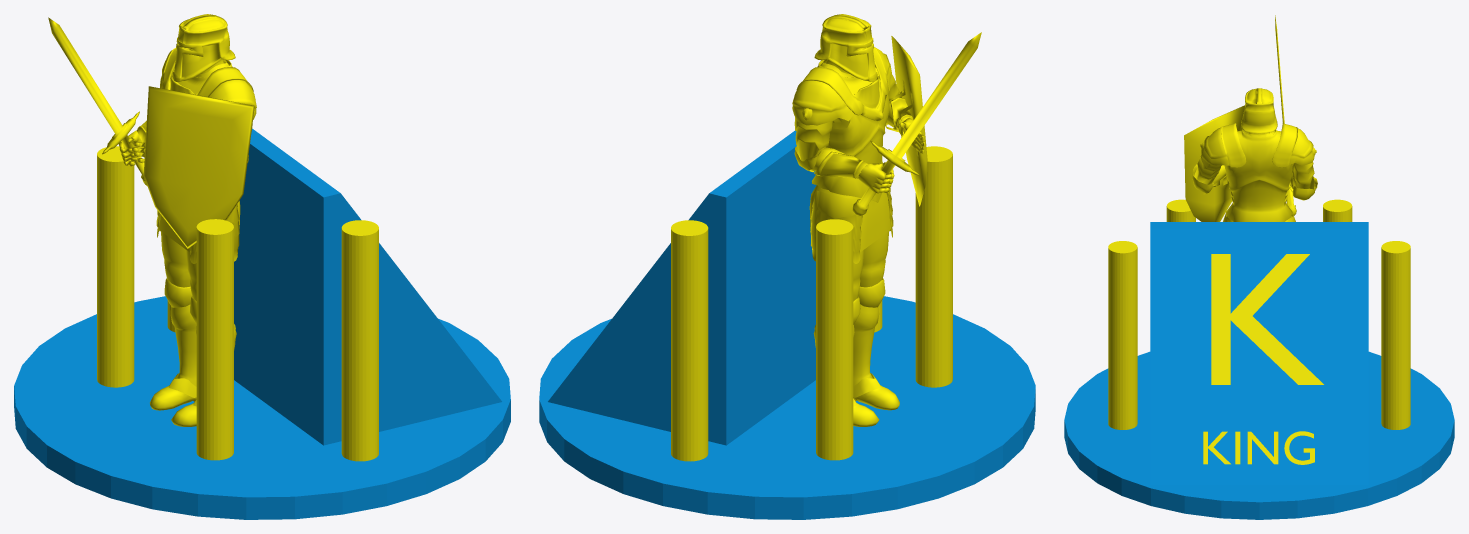
The model's file is TCKing.fbx.
The picture shows the model from 3 angles, left to right: view 1: azimuth 30°, elevation 25°; view 2: azimuth 150°, elevation 25°; view 3: azimuth 270°, elevation 25°; orthographic projection. The views are drawn at different scales.
Visible parts, largest first — view 1: King; view 2: King; view 3: King.
Part boxes in pixels (<box>): King: <box>14,14,510,519</box>; King: <box>539,14,1035,519</box>; King: <box>1064,15,1454,519</box>.
Bounding box in the file's own units: 180 × 176 × 180.
